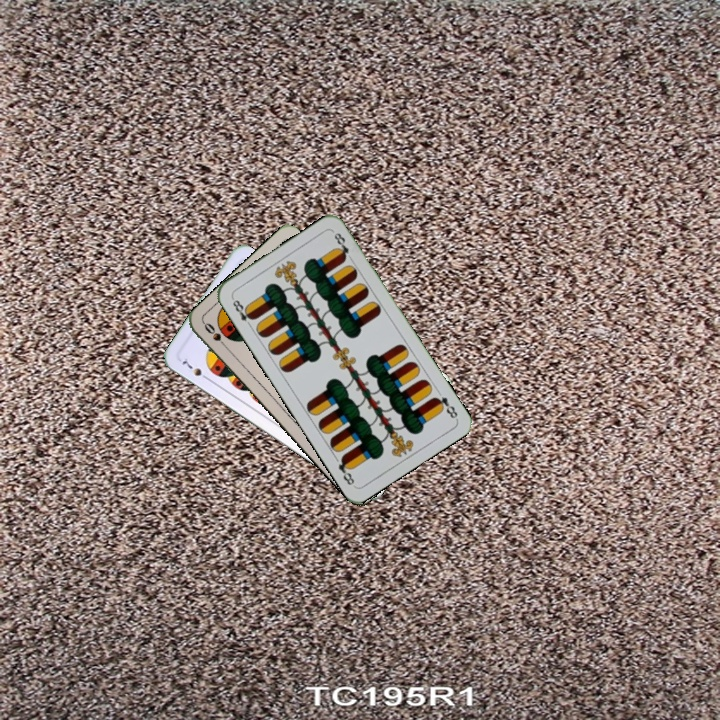E8: (228, 294, 257, 330), (429, 393, 460, 422)
S7: (178, 354, 212, 383)
SO: (200, 318, 231, 353)
